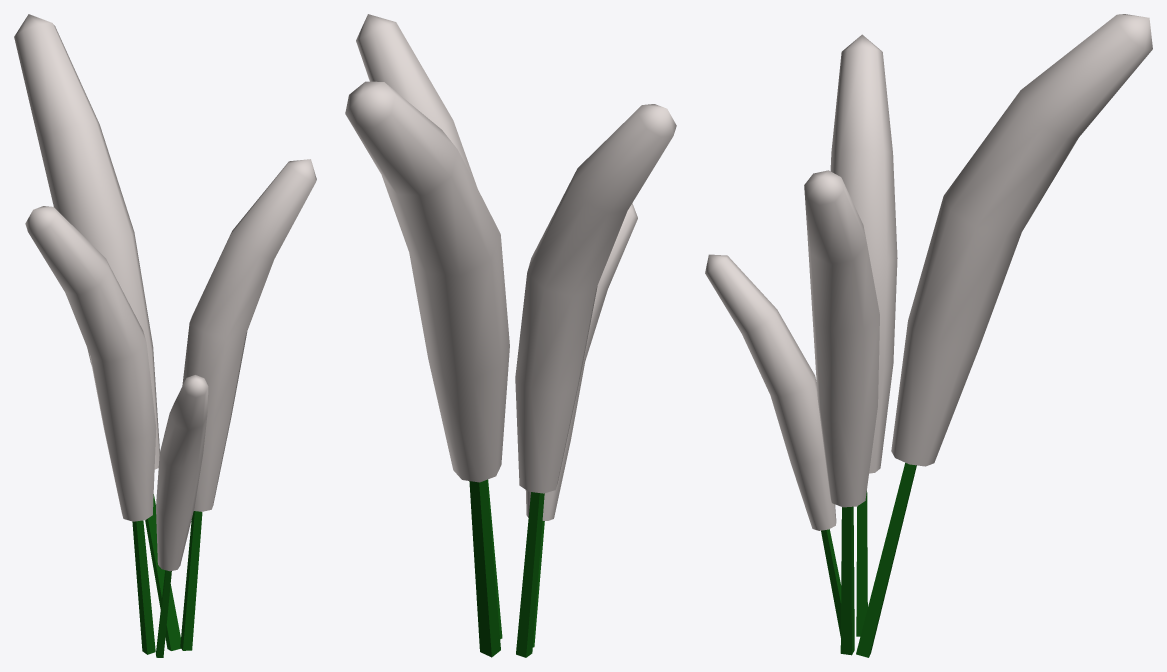
The model's file is hoa co may.FBX.
3 views of the same model, side by side, from view 1: azimuth 30°, elevation 25°; view 2: azimuth 150°, elevation 25°; view 3: azimuth 270°, elevation 25° (orthographic). The views are drawn at different scales.
Parts seen in each view (by area): view 1: Object1378; view 2: Object1378; view 3: Object1378.
Part boxes in pixels (left/top/right/bottom): Object1378: left=14, top=14, right=316, bottom=657; Object1378: left=345, top=14, right=676, bottom=657; Object1378: left=705, top=14, right=1152, bottom=657.
Size of the model in its own units: 0.6376 by 1.24 by 0.8033.
